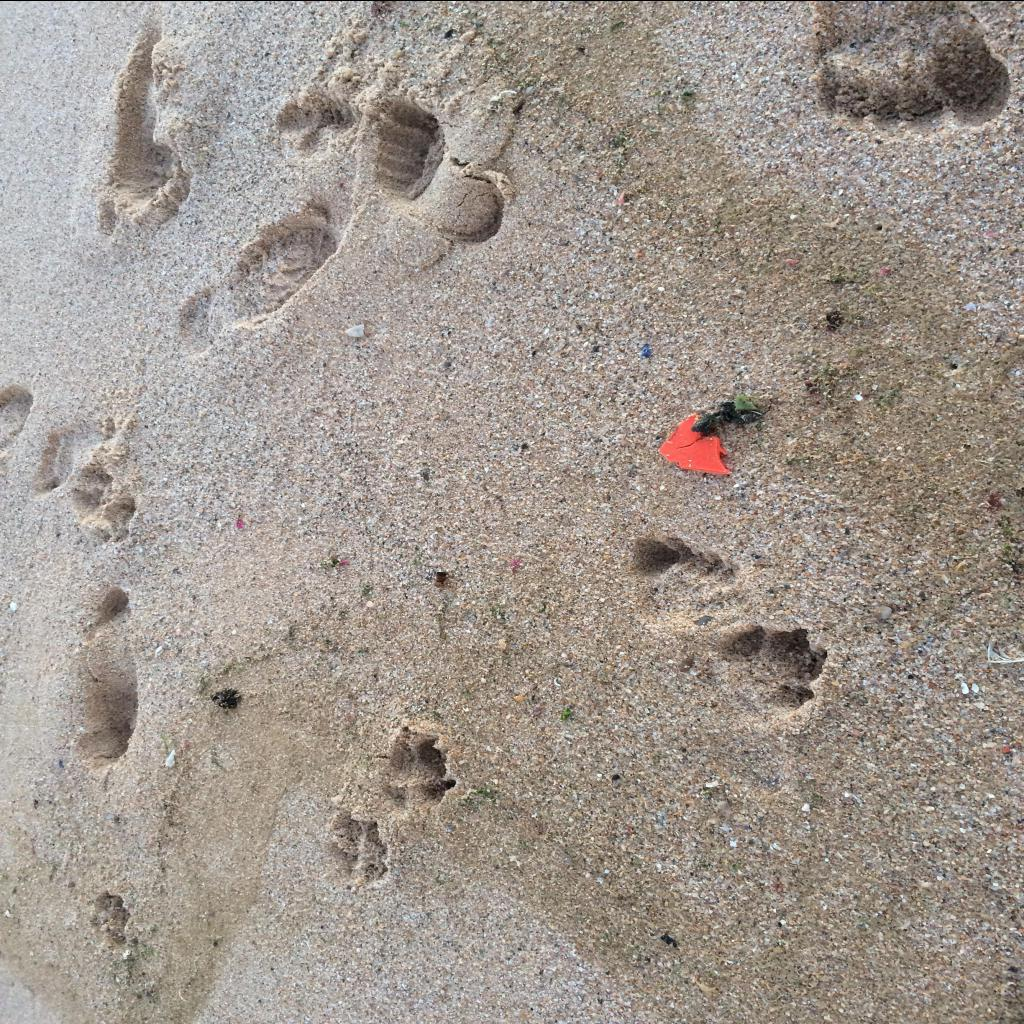Other plastic bottle: (659, 412, 731, 474), (736, 393, 760, 409)
